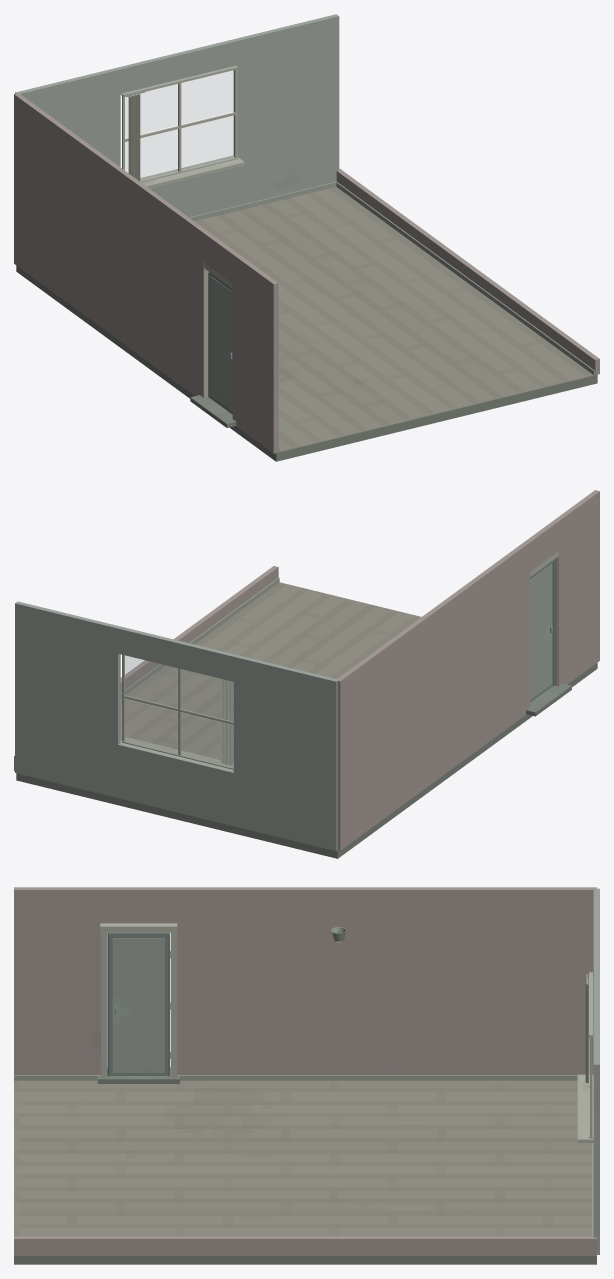
The model's file is room-background.glb.
The picture shows the model from 3 angles, top to bottom: view 1: azimuth 30°, elevation 25°; view 2: azimuth 150°, elevation 25°; view 3: azimuth 270°, elevation 25°; orthographic projection. The views are drawn at different scales.
Visible parts, largest first — view 1: room-background/floor-finish, room-background/left-wall-rear, room-background/back-wall-east, room-background/left-wall-front, room-background/back-wall-west, room-background/floor-structure, room-background/right-low-wall, room-background/back-wall-window-lintel, room-background/back-wall-below-window, room-background/door-panel-exterior, room-background/window-glass-1-1, room-background/window-glass-1-0 (+8 smaller); view 2: room-background/left-wall-rear, room-background/floor-finish, room-background/back-wall-west, room-background/back-wall-east, room-background/left-wall-front, room-background/back-wall-below-window, room-background/floor-structure, room-background/back-wall-window-lintel, room-background/door-panel-exterior, room-background/window-glass-1-0, room-background/window-glass-0-0, room-background/window-glass-1-1 (+8 smaller); view 3: room-background/floor-finish, room-background/left-wall-rear, room-background/left-wall-front, room-background/right-low-wall, room-background/door-panel-interior, room-background/floor-structure, room-background/left-wall-door-lintel, room-background/left-skirting-rear, room-background/door-leaf-body, room-background/back-wall-east, room-background/door-frame-hinge, room-background/door-frame-latch (+4 smaller).
Boxes of the visible parts, bbox=[...] form: room-background/floor-finish: bbox=[194, 187, 597, 453]; room-background/left-wall-rear: bbox=[14, 93, 207, 397]; room-background/back-wall-east: bbox=[233, 14, 339, 205]; room-background/left-wall-front: bbox=[232, 253, 278, 453]; room-background/back-wall-west: bbox=[15, 67, 120, 167]; room-background/floor-structure: bbox=[16, 265, 597, 461]; room-background/right-low-wall: bbox=[336, 169, 599, 374]; room-background/back-wall-window-lintel: bbox=[118, 39, 236, 94]; room-background/back-wall-below-window: bbox=[140, 155, 236, 217]; room-background/door-panel-exterior: bbox=[210, 276, 232, 411]; room-background/window-glass-1-1: bbox=[181, 71, 232, 123]; room-background/window-glass-1-0: bbox=[181, 116, 232, 168]; room-background/left-wall-rear: bbox=[336, 541, 529, 850]; room-background/floor-finish: bbox=[120, 582, 421, 762]; room-background/back-wall-west: bbox=[233, 654, 338, 851]; room-background/back-wall-east: bbox=[15, 601, 120, 797]; room-background/left-wall-front: bbox=[554, 490, 599, 686]; room-background/back-wall-below-window: bbox=[118, 743, 233, 826]; room-background/floor-structure: bbox=[16, 663, 597, 858]; room-background/back-wall-window-lintel: bbox=[118, 626, 235, 681]; room-background/door-panel-exterior: bbox=[530, 564, 551, 699]; room-background/window-glass-1-0: bbox=[124, 699, 177, 754]; room-background/window-glass-0-0: bbox=[180, 713, 232, 768]; room-background/window-glass-1-1: bbox=[124, 655, 177, 709]; room-background/floor-finish: bbox=[14, 1080, 591, 1236]; room-background/left-wall-rear: bbox=[171, 887, 596, 1074]; room-background/left-wall-front: bbox=[14, 887, 106, 1074]; room-background/right-low-wall: bbox=[14, 1236, 596, 1255]; room-background/door-panel-interior: bbox=[112, 938, 164, 1072]; room-background/floor-structure: bbox=[14, 1256, 596, 1264]; room-background/left-wall-door-lintel: bbox=[106, 887, 171, 923]; room-background/left-skirting-rear: bbox=[177, 1075, 577, 1080]; room-background/door-leaf-body: bbox=[107, 932, 169, 1075]; room-background/back-wall-east: bbox=[593, 1008, 599, 1254]; room-background/door-frame-hinge: bbox=[170, 932, 176, 1077]; room-background/door-frame-latch: bbox=[101, 932, 107, 1077].
Size of the model in its own units: 5.6 by 2.84 by 7.54.
15 materials, 14 textured.
